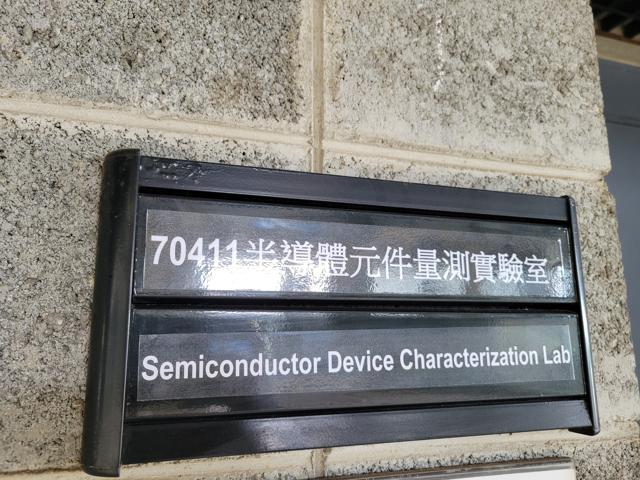doorplate: (73, 142, 608, 472)
